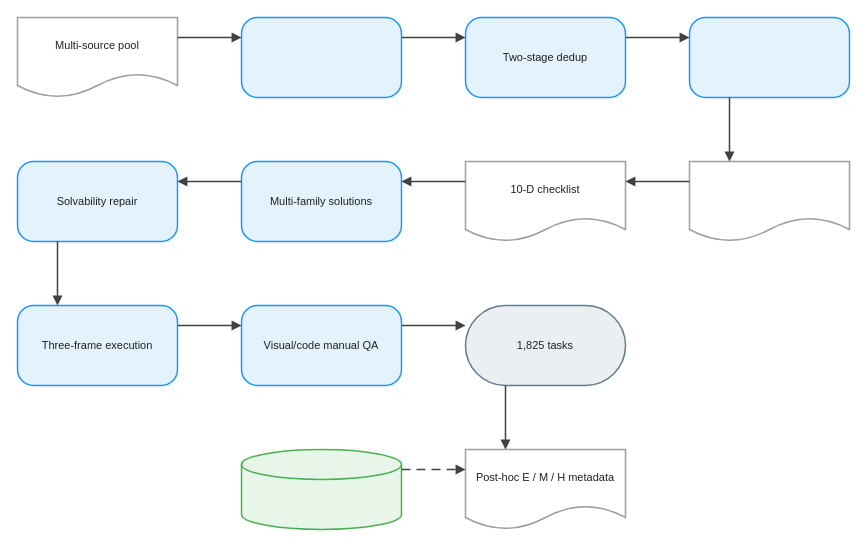
Image size: 868x548. Some labels were removed from this diagram. The shapes that lost their labels are listed below. From the top down, each one's centre as x and y in pixels, then its label:
At pixel 321 57: "Automated filters".
At pixel 769 57: "Human + LLM rewrite".
At pixel 769 201: "10% human seed".
At pixel 321 489: "30+ model aggregate".
